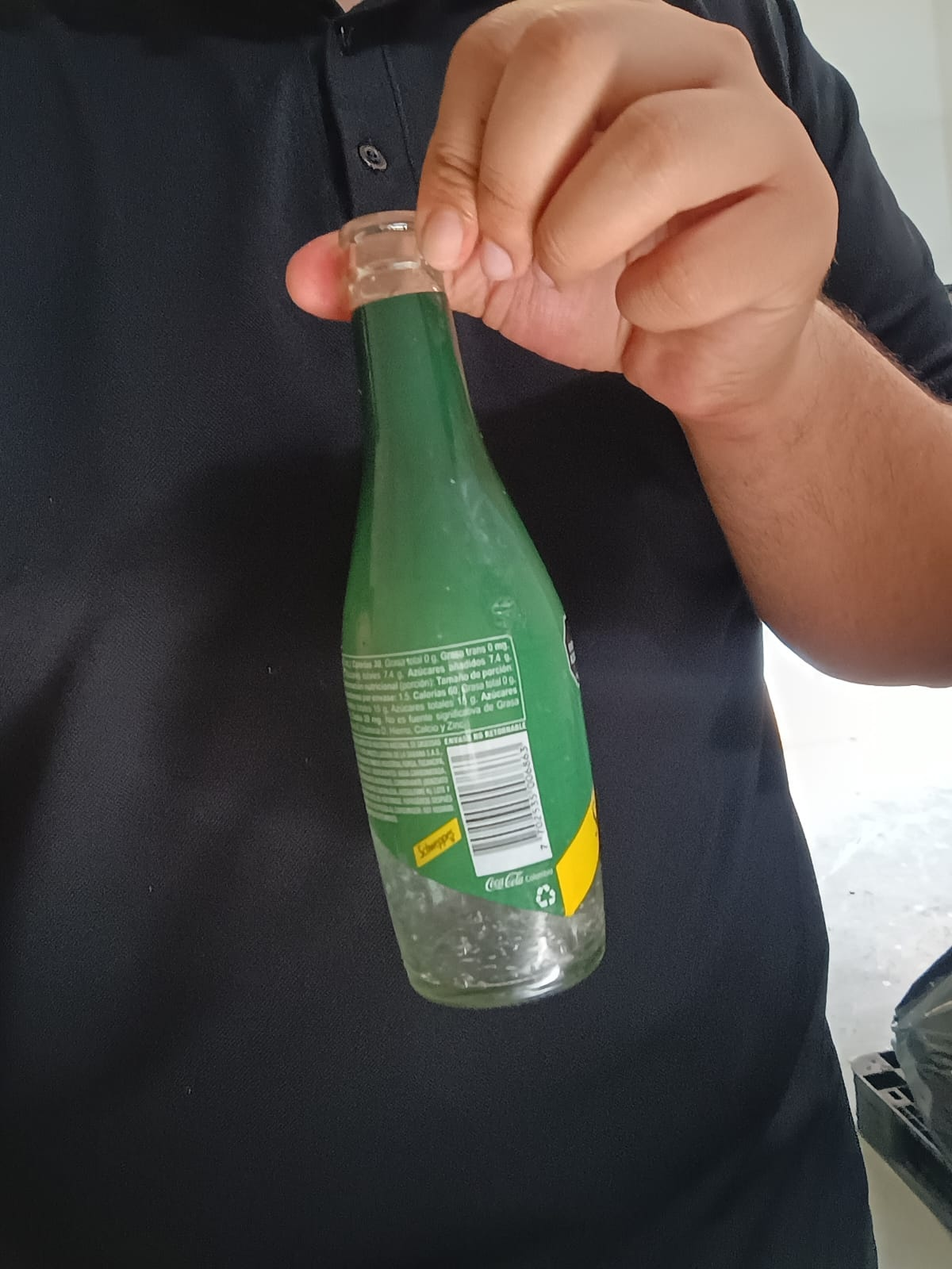Vidrio: (336, 212, 609, 1009)
